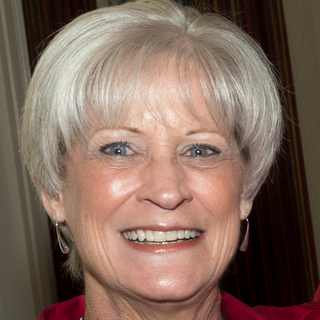eye: (92, 136, 143, 164), (175, 138, 225, 164)
